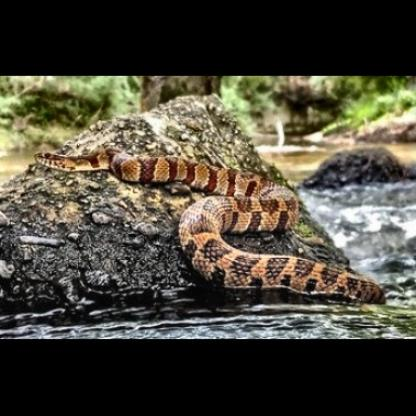Snake: (32, 146, 386, 308)
